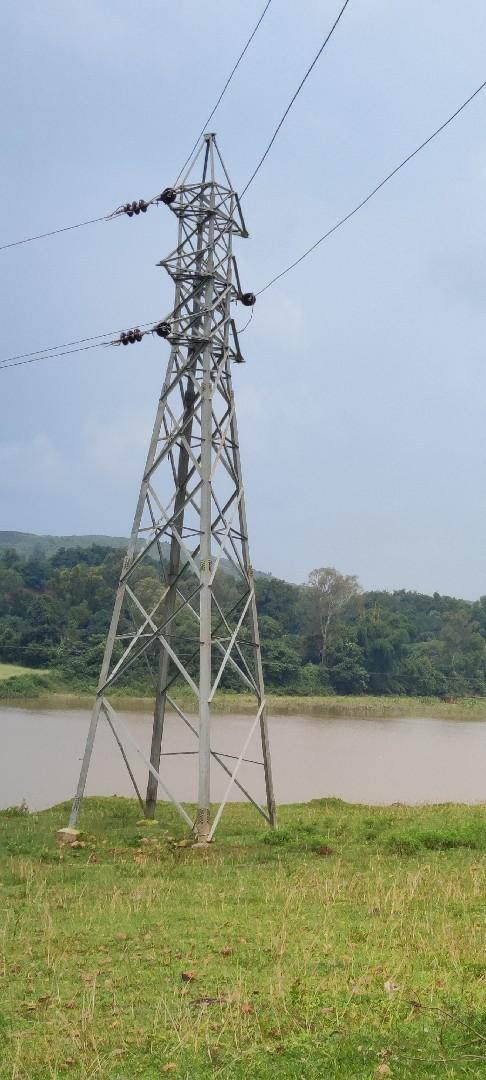GSM Antenna: (61, 126, 280, 809)
